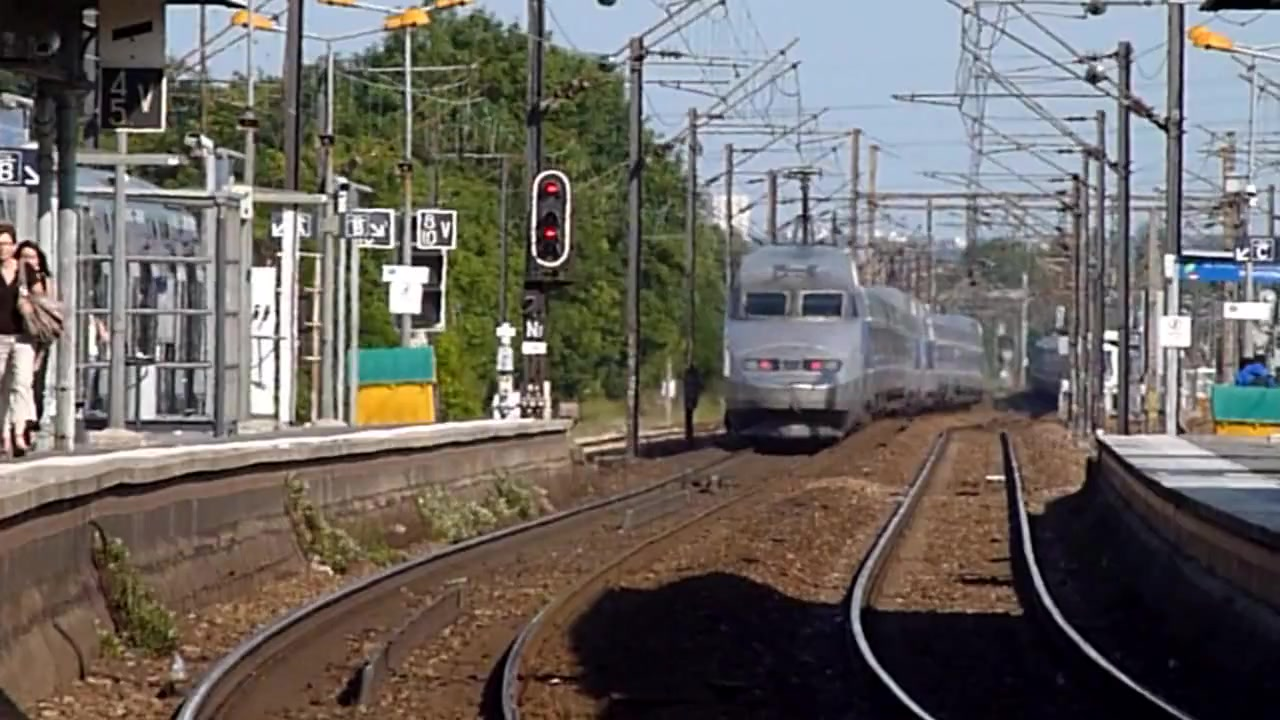train: (726, 245, 986, 453)
